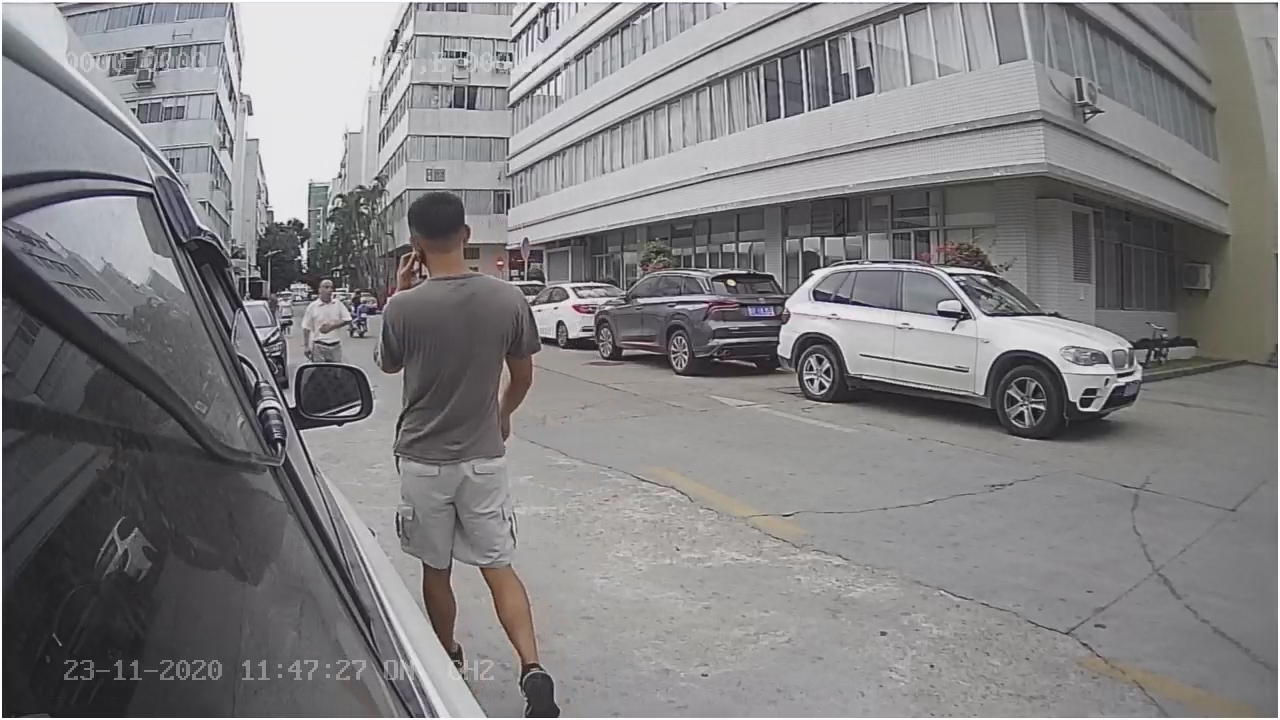person: (374, 178, 543, 445)
